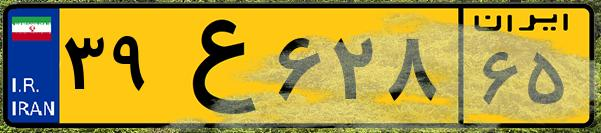2: (330, 28, 385, 110)
3: (57, 26, 110, 100)
5: (525, 38, 570, 115)
6: (270, 28, 330, 110), (475, 38, 525, 113)
8: (385, 28, 445, 110)
9: (110, 28, 158, 98)
ع: (158, 12, 270, 120)
